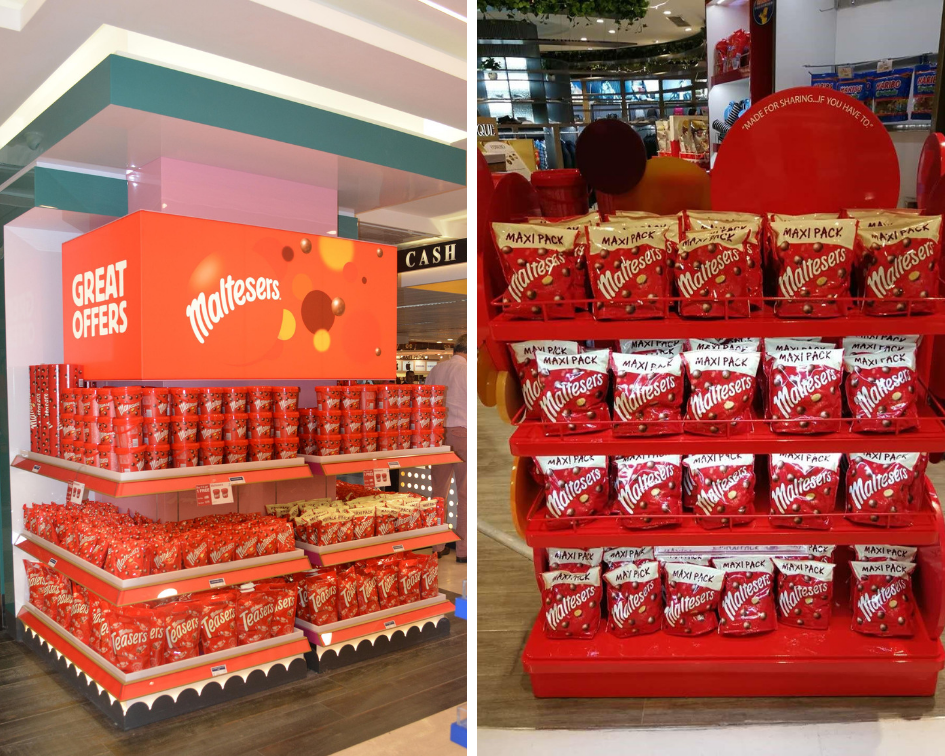maltesers: (488, 221, 575, 318), (586, 226, 673, 321), (770, 218, 852, 313), (856, 224, 940, 315), (673, 232, 760, 318), (840, 350, 925, 436), (763, 349, 843, 433), (609, 354, 686, 438), (535, 353, 609, 433), (851, 559, 925, 639), (687, 350, 755, 434), (684, 454, 758, 526), (615, 454, 685, 528), (847, 452, 918, 523), (768, 453, 835, 527), (717, 555, 779, 631), (540, 570, 601, 636), (605, 565, 663, 634), (663, 564, 719, 632), (778, 557, 829, 629), (114, 536, 145, 578), (150, 537, 181, 572), (248, 413, 278, 444), (203, 537, 237, 564), (173, 387, 201, 418), (170, 418, 199, 446), (198, 415, 224, 444), (314, 385, 340, 413), (224, 415, 248, 441), (145, 446, 170, 470)
